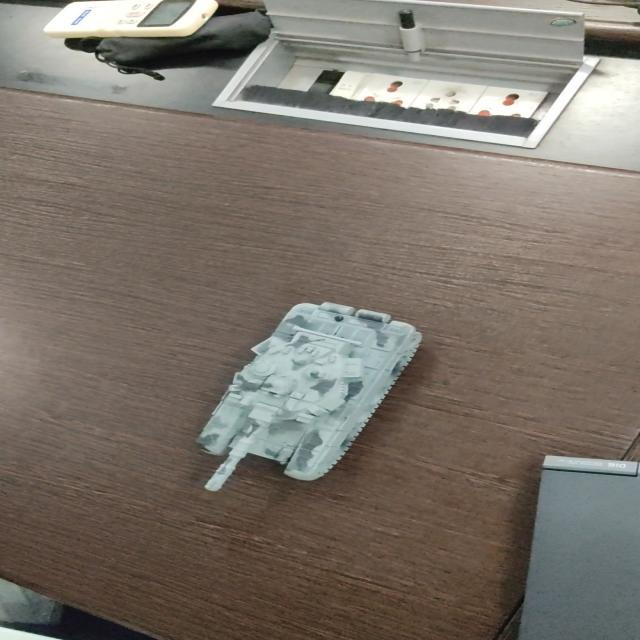tank: (195, 303, 424, 492)
